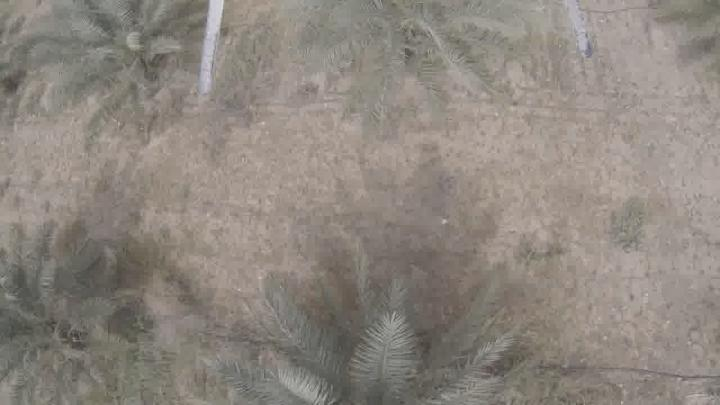Date-Palm-Crown: (274, 299, 520, 405), (302, 0, 516, 100), (0, 268, 132, 404), (51, 0, 191, 104)
